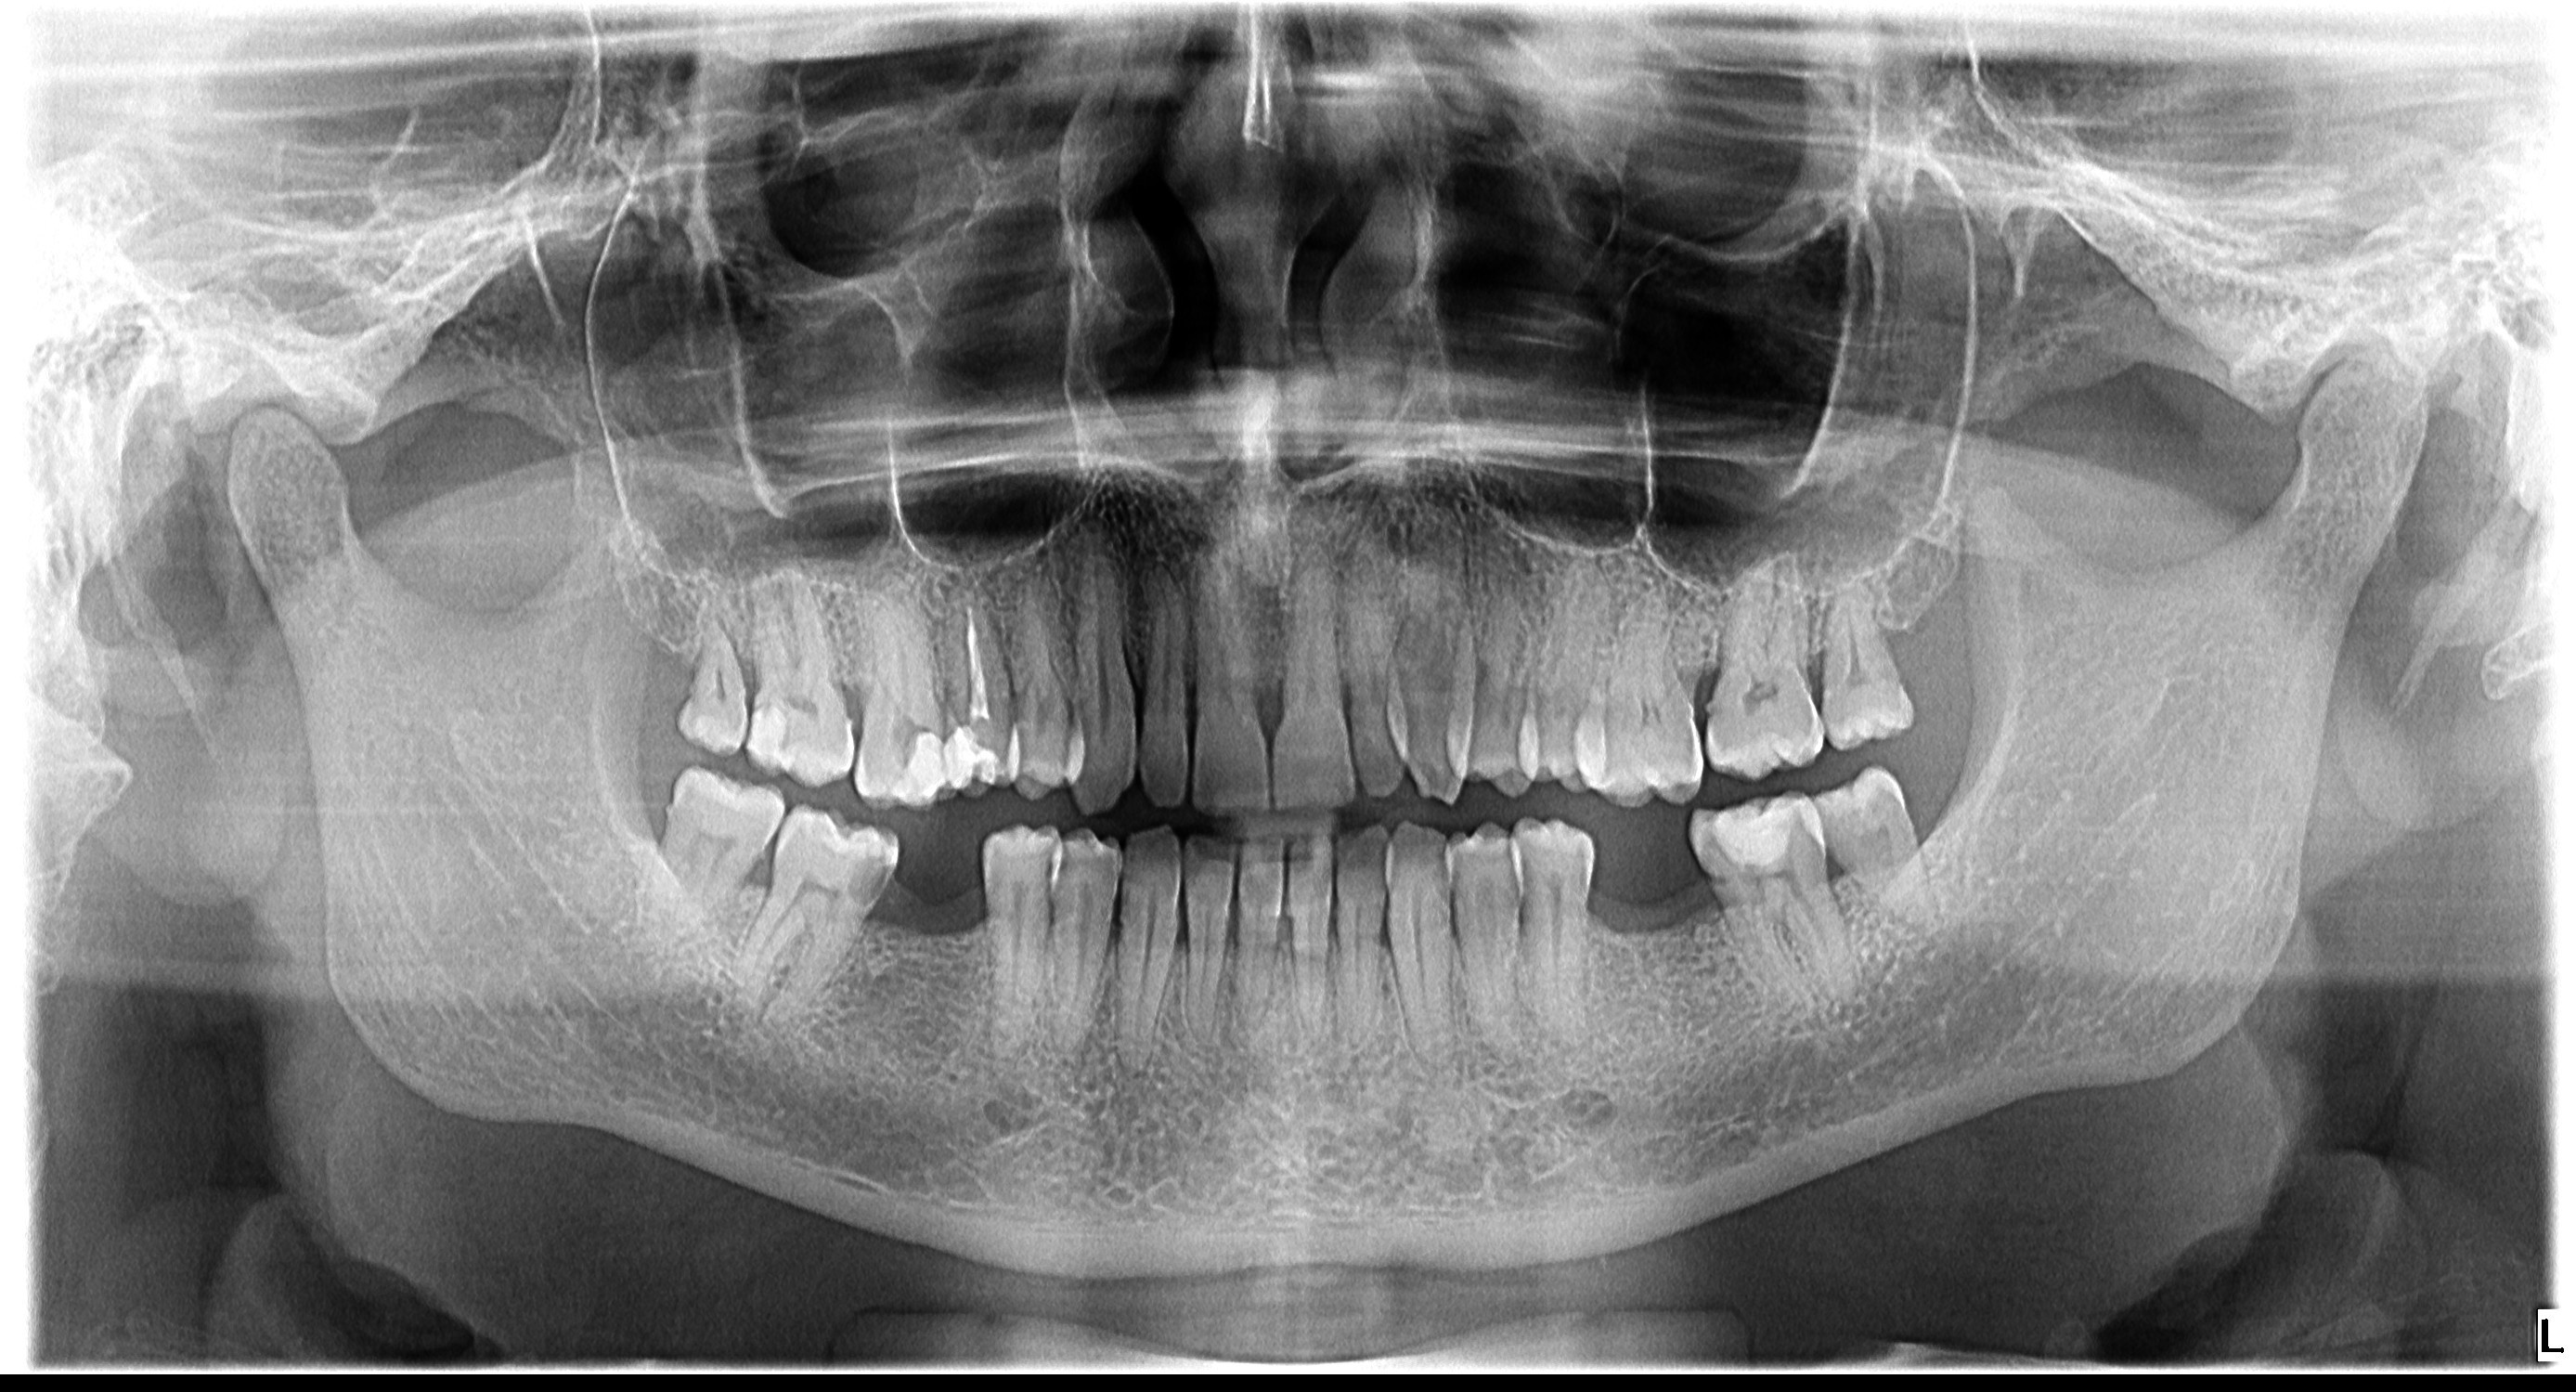BON: (827, 653, 877, 730), (728, 631, 771, 696)
CAR: (819, 826, 908, 927), (1682, 855, 1744, 912), (1687, 687, 1737, 729)
END: (945, 595, 993, 722)
OBT: (1711, 782, 1814, 881), (885, 722, 954, 814), (742, 694, 803, 773), (942, 720, 1007, 789), (695, 708, 745, 761)
